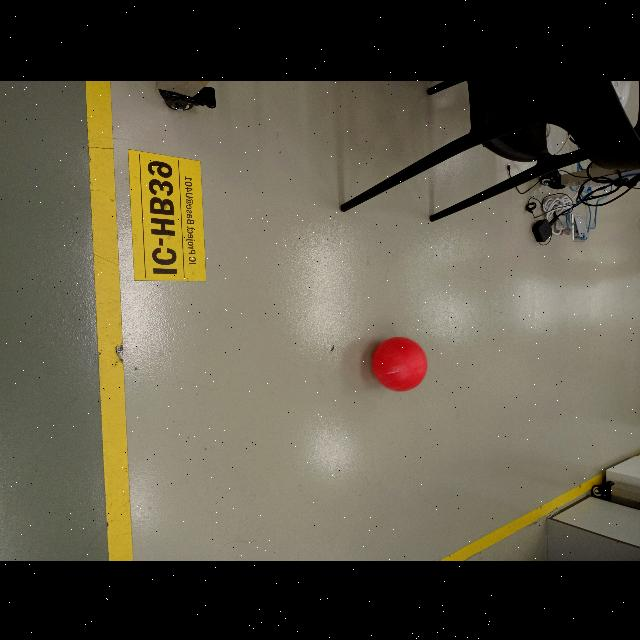R: (369, 336, 429, 392)
